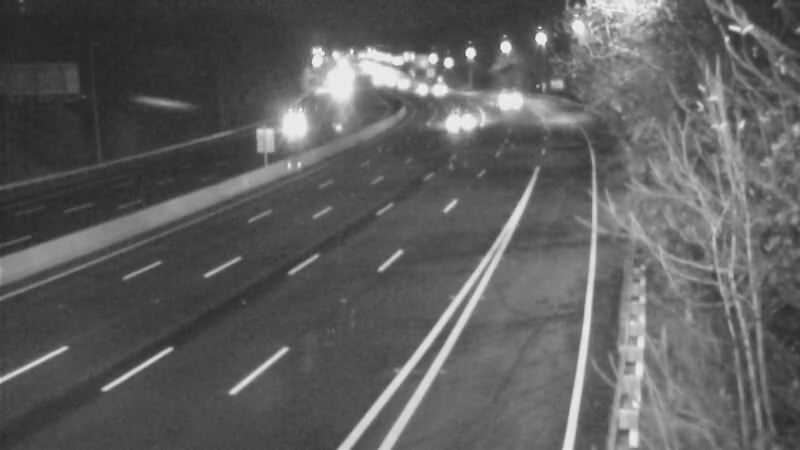vehicle: (414, 66, 464, 116), (393, 65, 443, 115), (477, 67, 527, 117), (437, 89, 487, 139), (264, 103, 314, 153)
